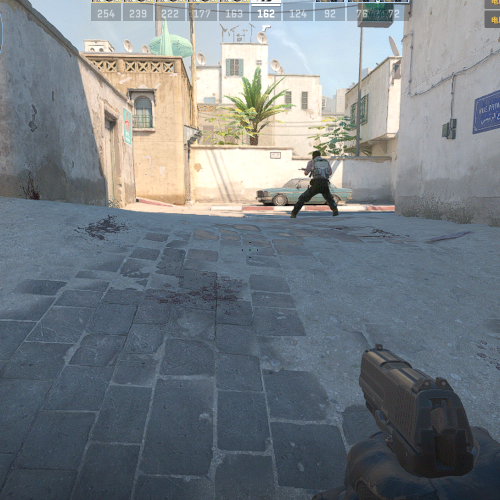t_body: (289, 149, 339, 217)
t_head: (312, 150, 323, 162)
